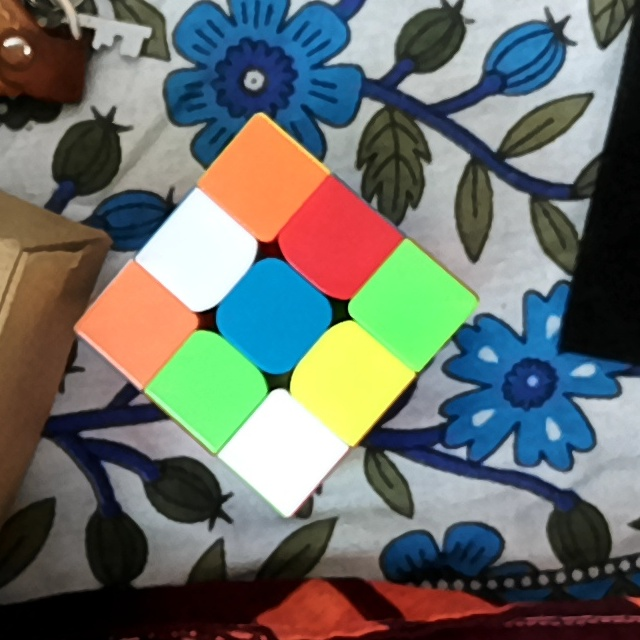tile: (380, 272, 445, 340), (239, 286, 308, 350), (314, 349, 378, 416), (304, 207, 367, 275), (230, 148, 293, 212), (166, 224, 230, 287), (108, 294, 170, 356), (253, 421, 313, 483), (178, 356, 240, 415)
